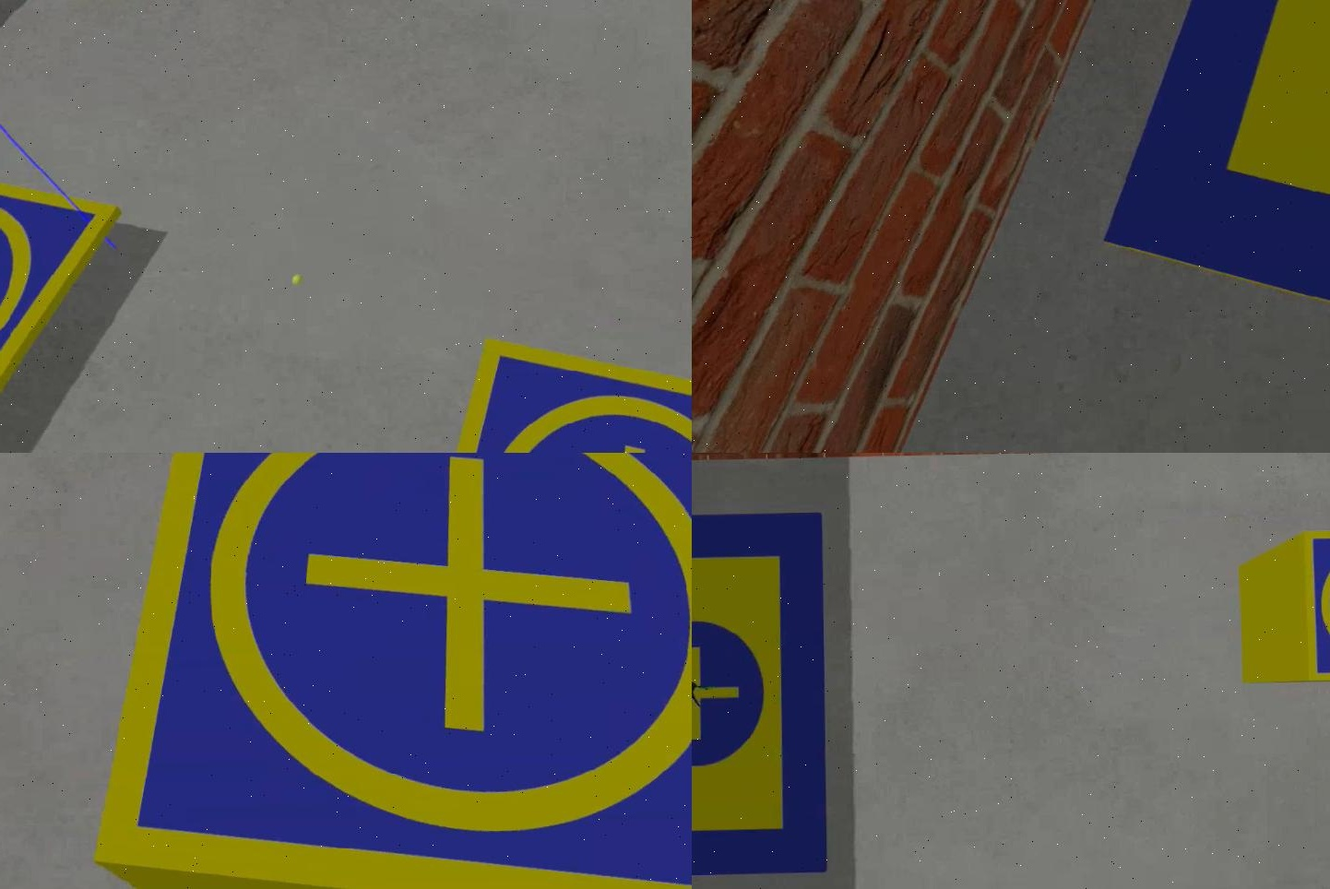large_base: (1093, 1, 1328, 417), (690, 509, 829, 879)
small_base: (72, 454, 690, 889), (0, 154, 126, 454), (411, 332, 690, 454)
